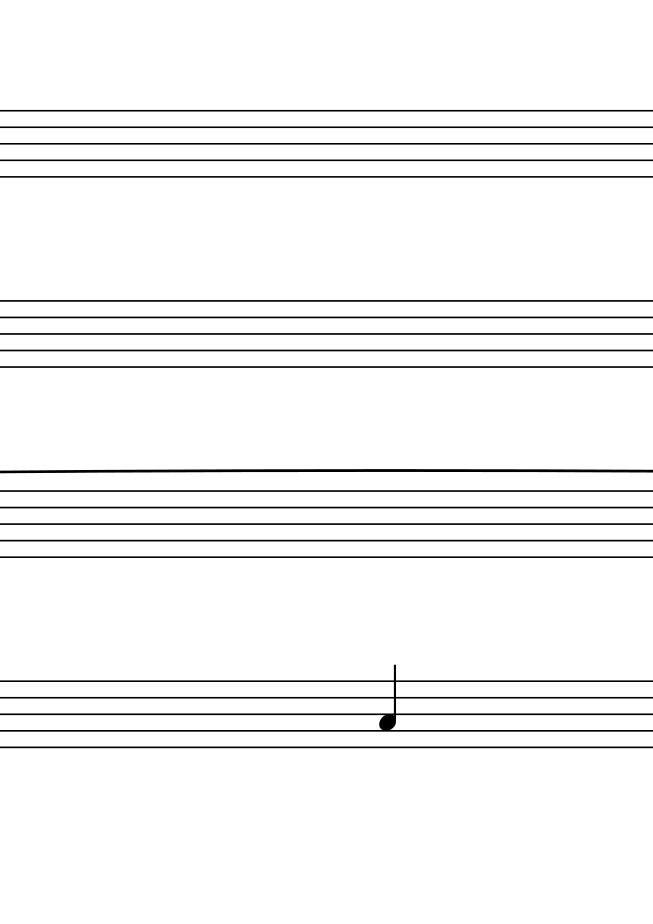4_3: (376, 662, 398, 751)
